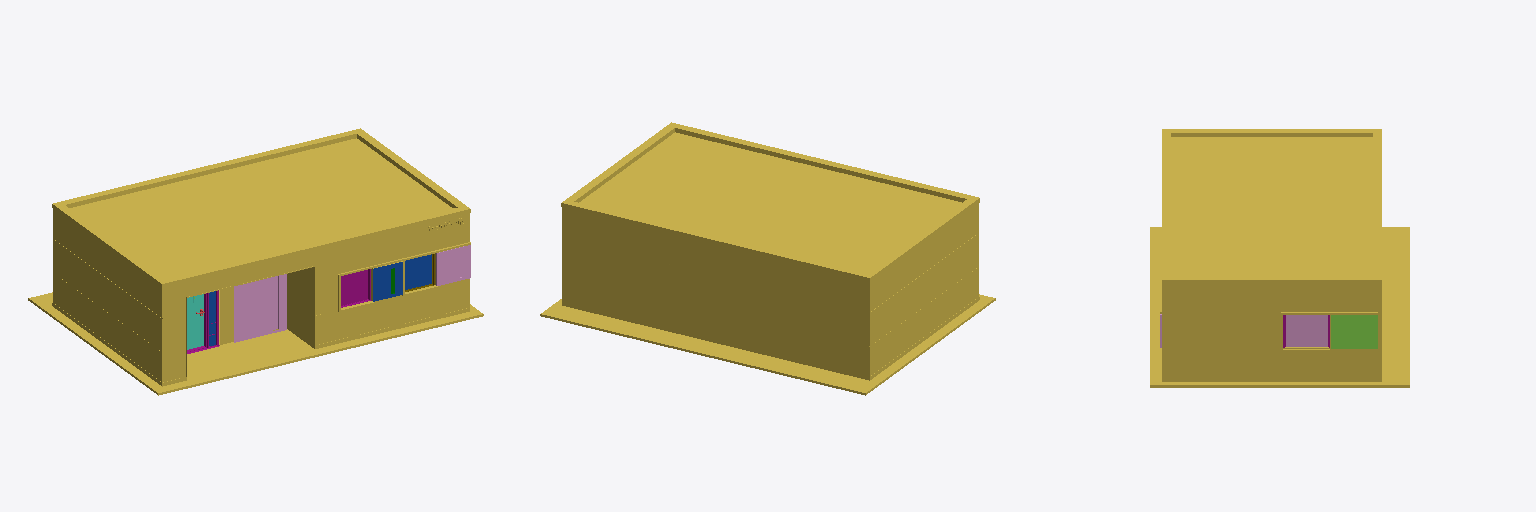
3 renders of one model, left to right at view 1: azimuth 30°, elevation 25°; view 2: azimuth 150°, elevation 25°; view 3: azimuth 270°, elevation 25°, orthographic.
Parts seen in each view (by area): view 1: Layer0_001, Group_005, Group_004, Group_003, Door_001, Window_001, Window_002, Frame_1_001; view 2: Layer0_001; view 3: Layer0_001, Group_006, Window_003.
Boxes of the visible parts, <box> form: Layer0_001: <box>28,128,483,395</box>; Group_005: <box>234,274,286,342</box>; Group_004: <box>436,245,470,285</box>; Group_003: <box>373,262,402,301</box>; Door_001: <box>187,294,203,349</box>; Window_001: <box>341,270,367,305</box>; Window_002: <box>405,254,431,289</box>; Frame_1_001: <box>187,290,219,353</box>; Layer0_001: <box>540,122,995,395</box>; Layer0_001: <box>1150,129,1409,387</box>; Group_006: <box>1331,315,1377,348</box>; Window_003: <box>1286,315,1327,346</box>.
Size of the model in its own units: 344 by 106 by 238.